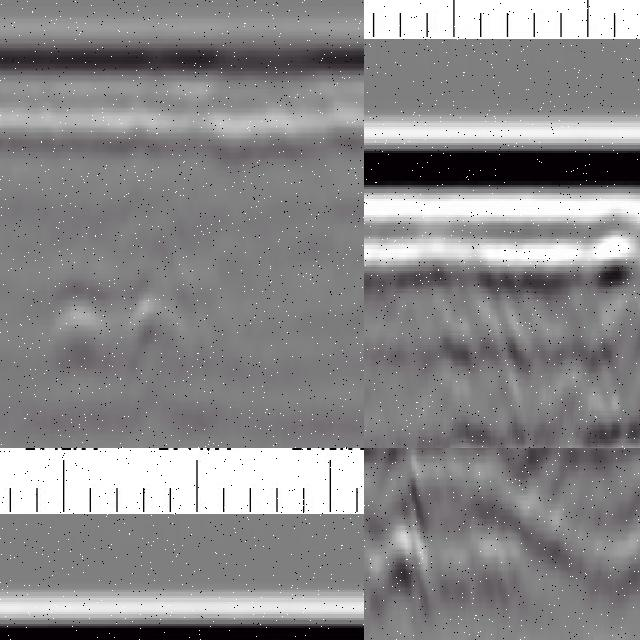loose: (441, 218, 640, 449), (365, 449, 611, 611), (46, 280, 198, 383)
